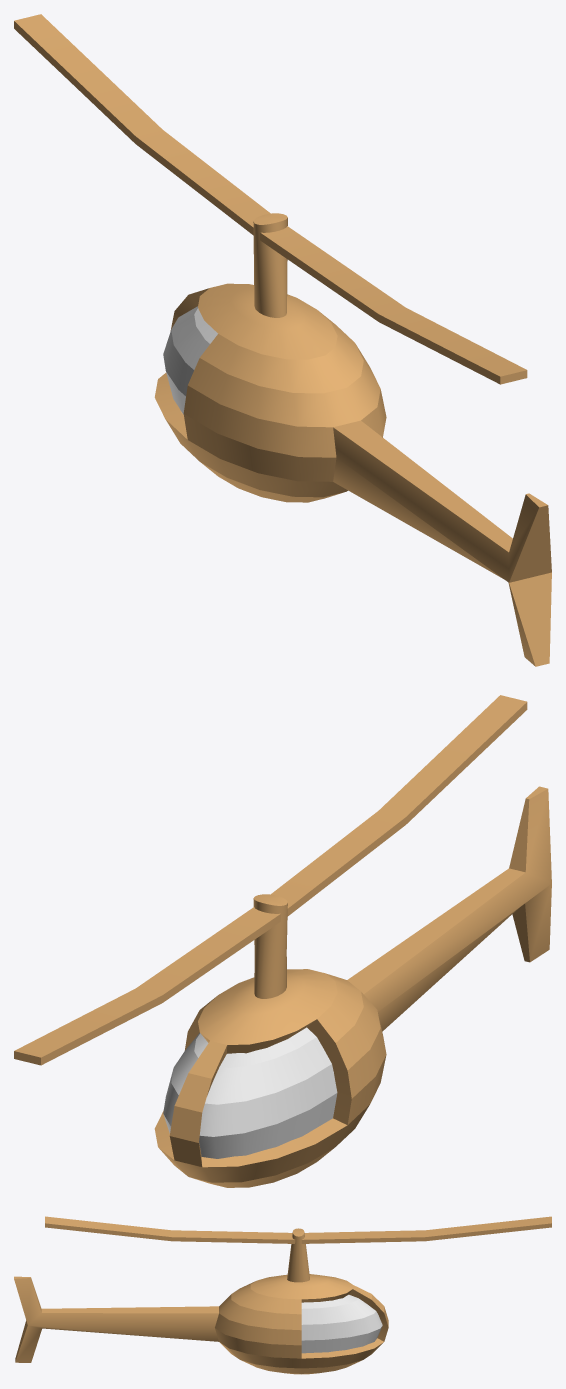
File: YelloCopter.fbx
The picture shows the model from 3 angles, top to bottom: view 1: azimuth 30°, elevation 25°; view 2: azimuth 150°, elevation 25°; view 3: azimuth 270°, elevation 25°; orthographic projection. The views are drawn at different scales.
Parts seen in each view (by area): view 1: YelloCopter, Blade, Window; view 2: YelloCopter, Blade, Window; view 3: YelloCopter, Blade, Window.
Part boxes in pixels (x1,y1,x2,y2): YelloCopter: (154,213,551,666); Blade: (14,14,527,384); Window: (163,306,217,414); YelloCopter: (154,786,551,1187); Blade: (14,695,527,1065); Window: (163,1027,337,1158); YelloCopter: (14,1228,388,1374); Blade: (45,1216,551,1243); Window: (301,1294,382,1353).
Bounding box in the file's own units: 1 × 1.61 × 5.32.
